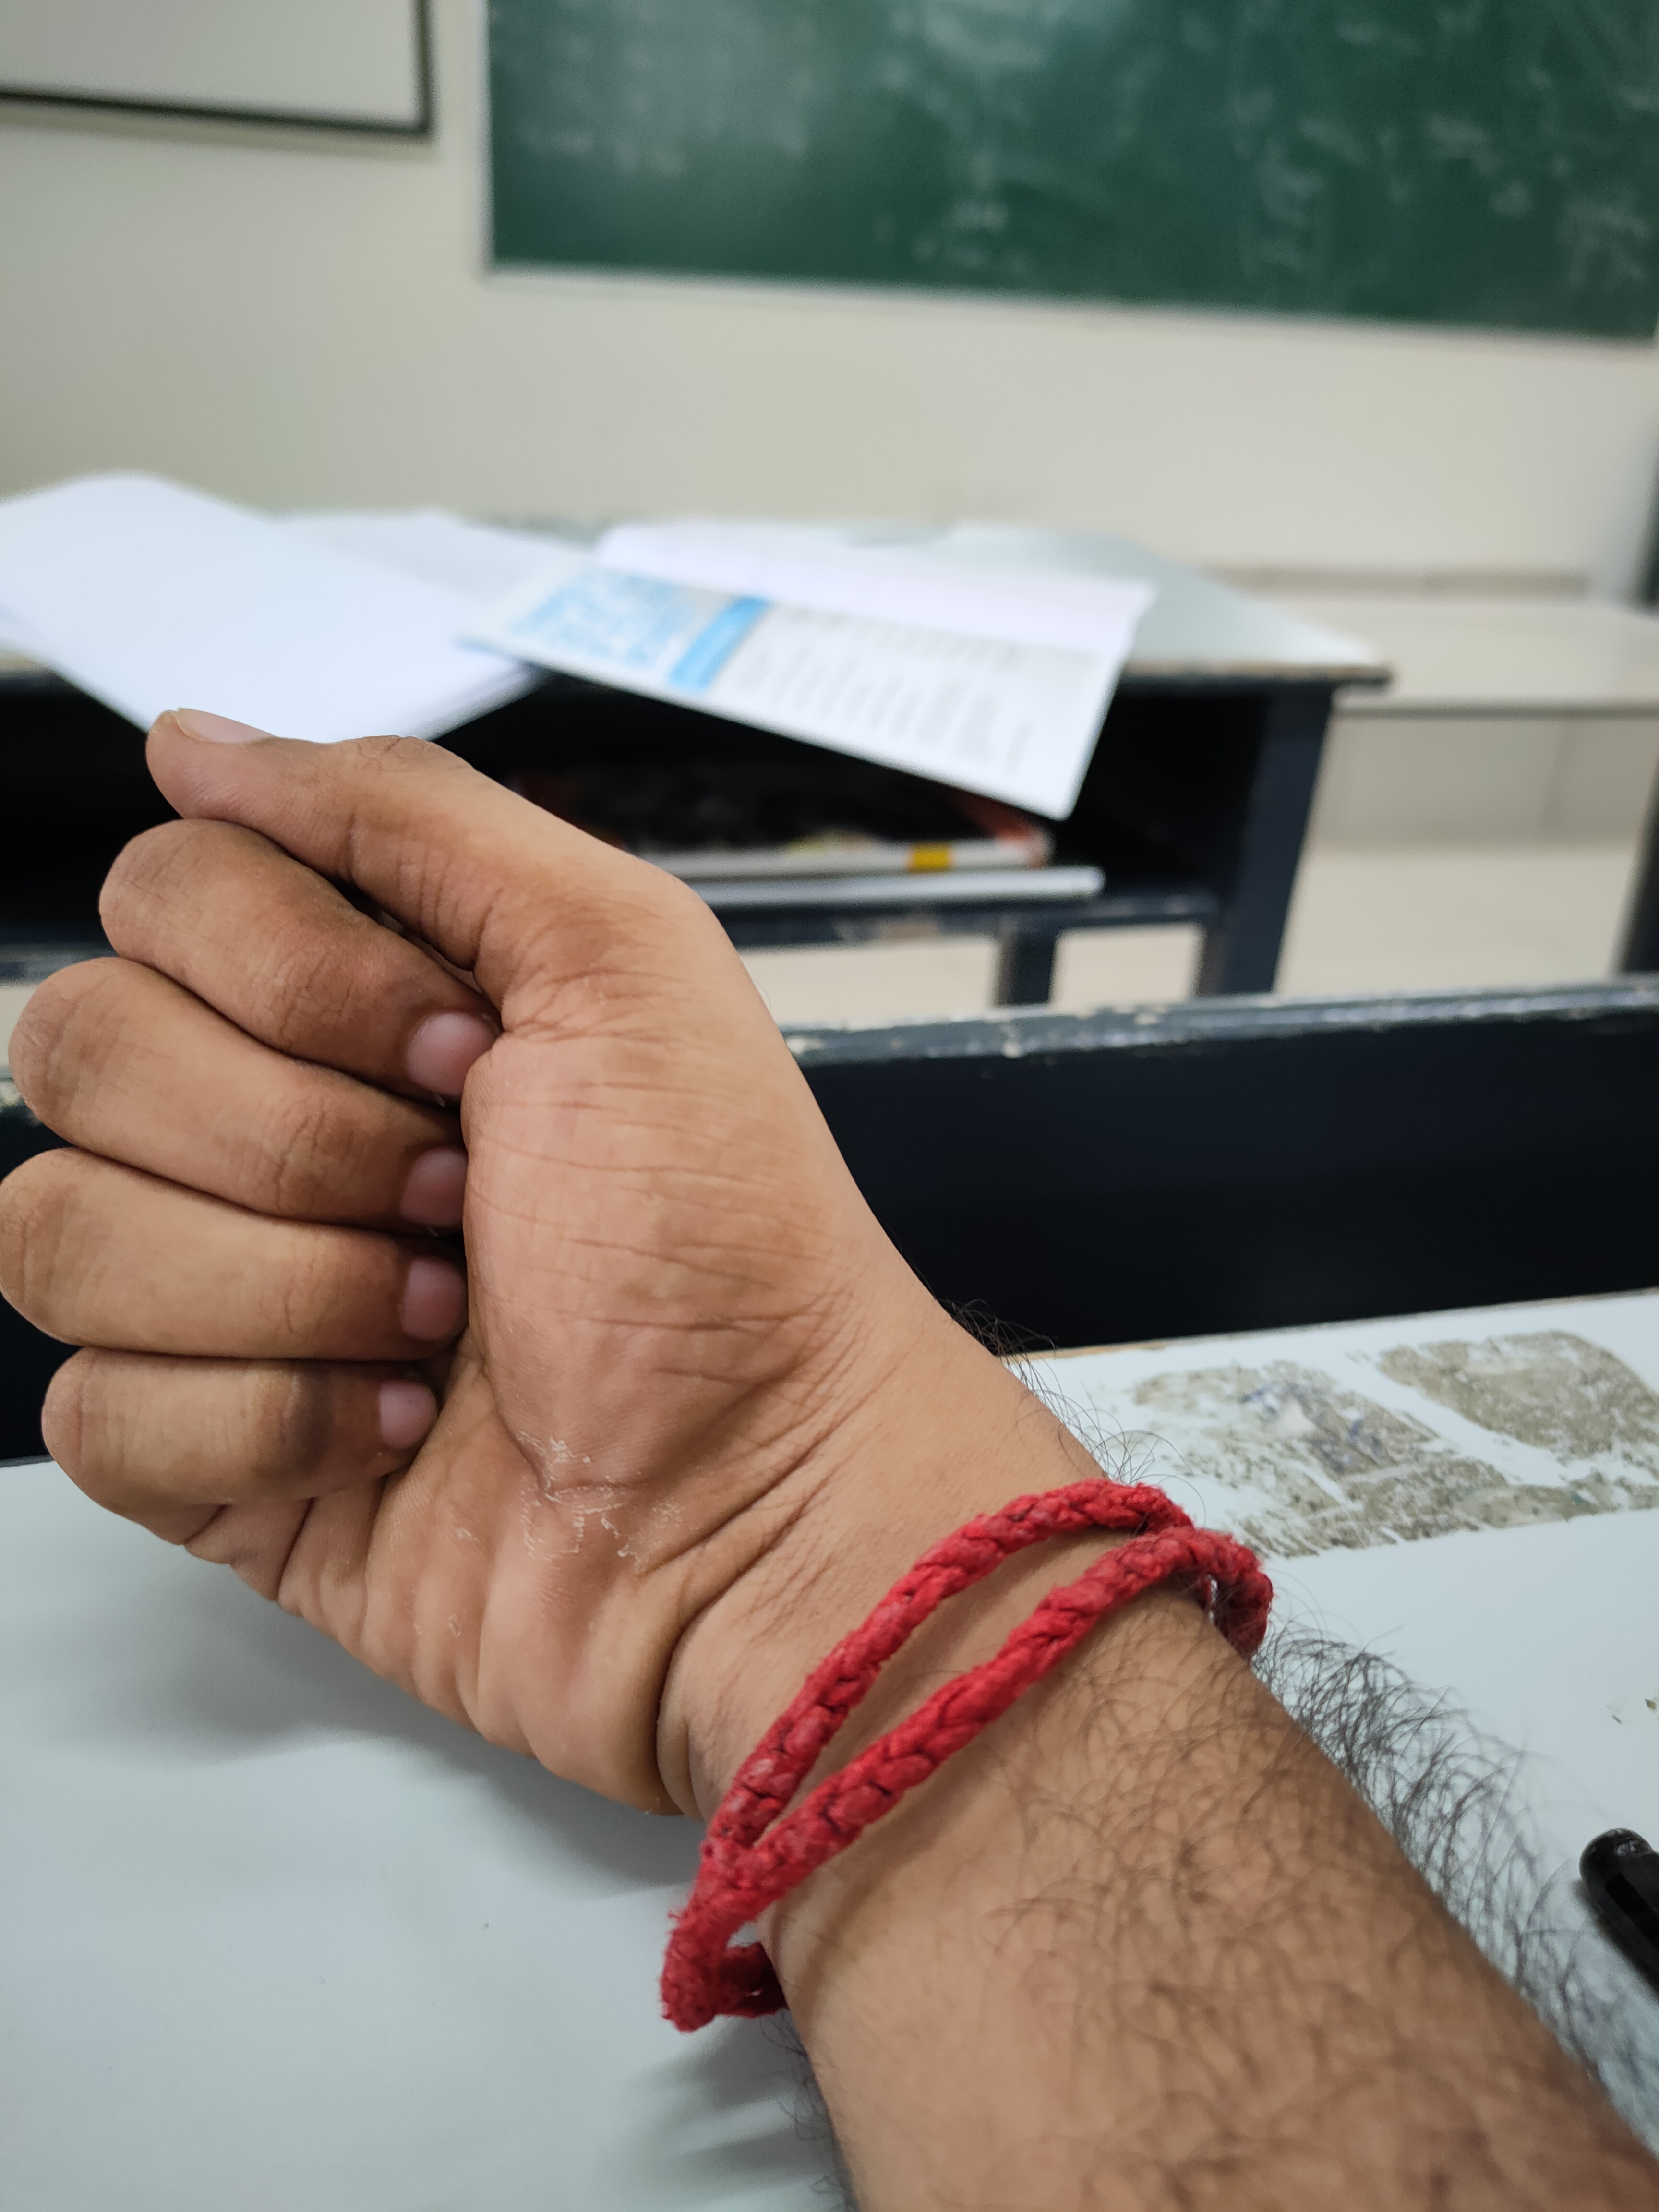A: (5, 587, 1068, 1890)
